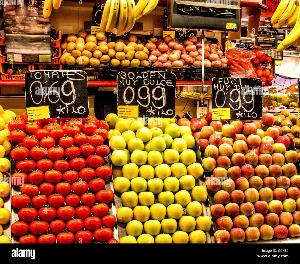apple: (198, 114, 300, 240), (113, 110, 209, 240)
banana: (95, 0, 162, 32)
onion: (149, 37, 229, 72)
tomato: (14, 110, 106, 242)
